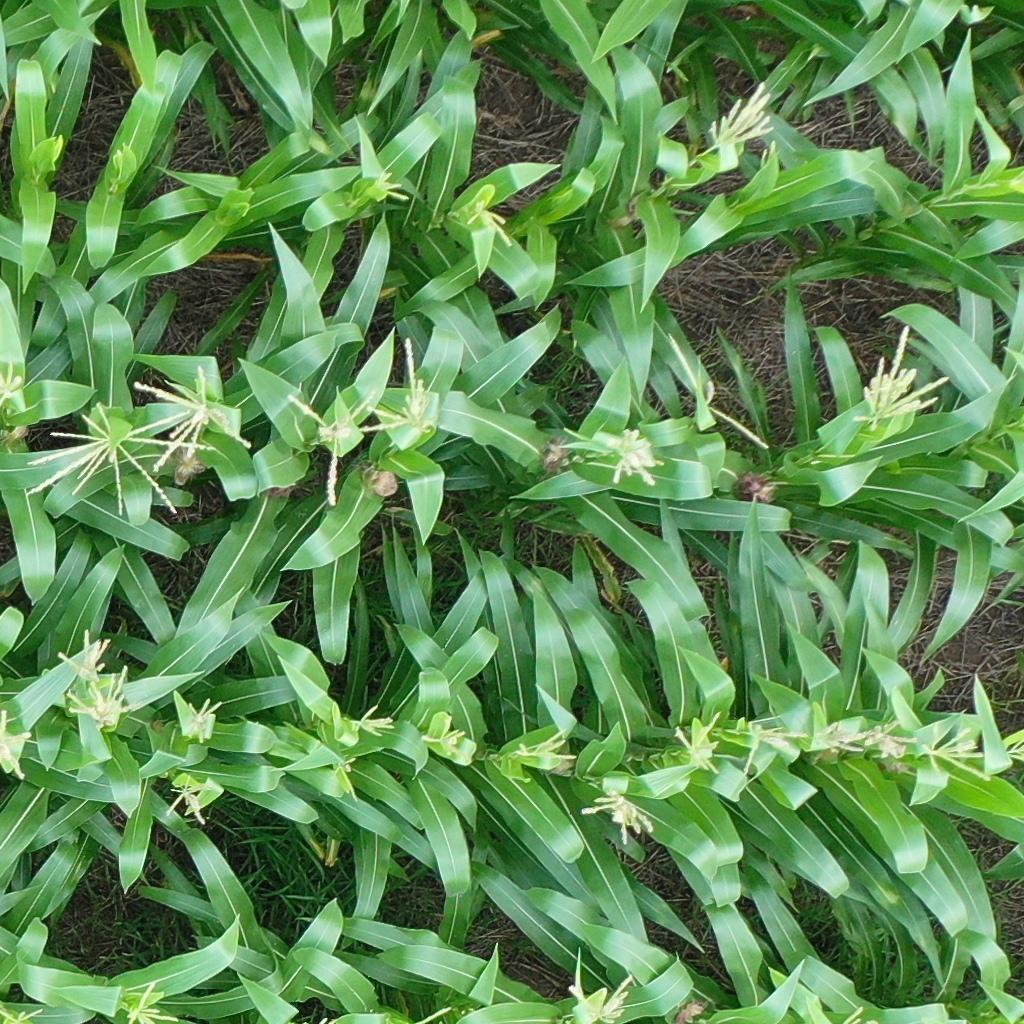Tassel: (20, 401, 216, 518), (132, 364, 254, 472), (844, 320, 949, 436), (285, 382, 379, 509), (672, 335, 770, 454), (357, 331, 436, 436), (703, 82, 770, 161), (593, 427, 667, 497), (811, 720, 918, 767), (67, 662, 131, 736), (582, 783, 656, 846), (918, 719, 984, 788), (736, 718, 806, 776), (562, 967, 638, 1020), (670, 708, 725, 778), (57, 627, 114, 685), (111, 981, 178, 1024), (508, 731, 582, 769), (462, 197, 513, 251), (165, 779, 216, 829), (177, 691, 224, 744), (360, 165, 415, 210), (1, 710, 34, 783), (422, 715, 470, 762), (864, 723, 922, 761), (344, 701, 398, 738), (328, 751, 358, 803), (1, 356, 25, 413), (1, 1002, 49, 1024), (1004, 736, 1024, 769)
